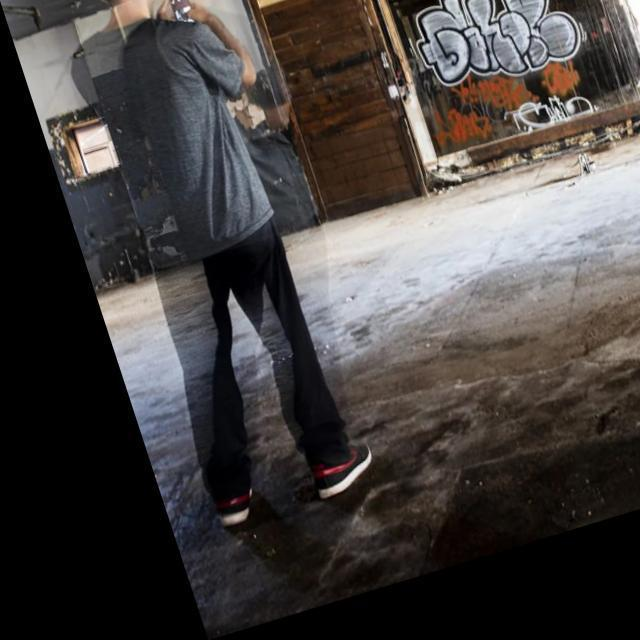-: (394, 0, 580, 132), (438, 80, 578, 151), (472, 110, 590, 180), (414, 124, 476, 174)
